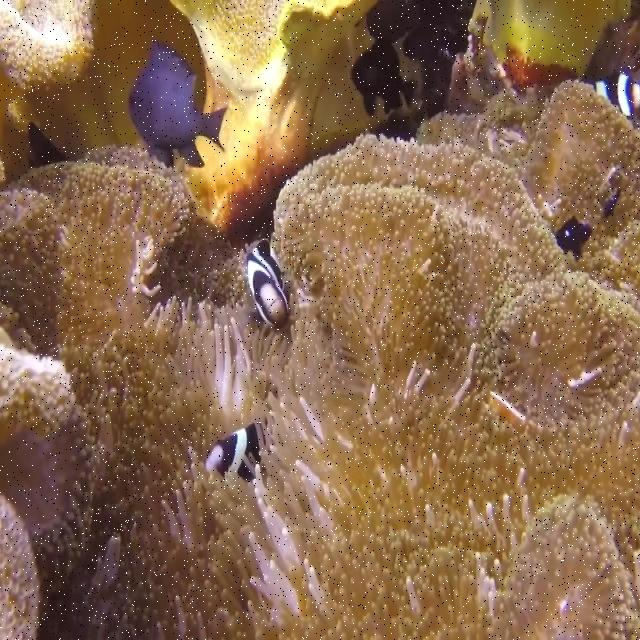fish: (127, 44, 229, 171), (350, 42, 417, 116), (205, 417, 268, 480), (247, 239, 290, 327), (593, 73, 639, 115)
reefs: (0, 81, 639, 639)
